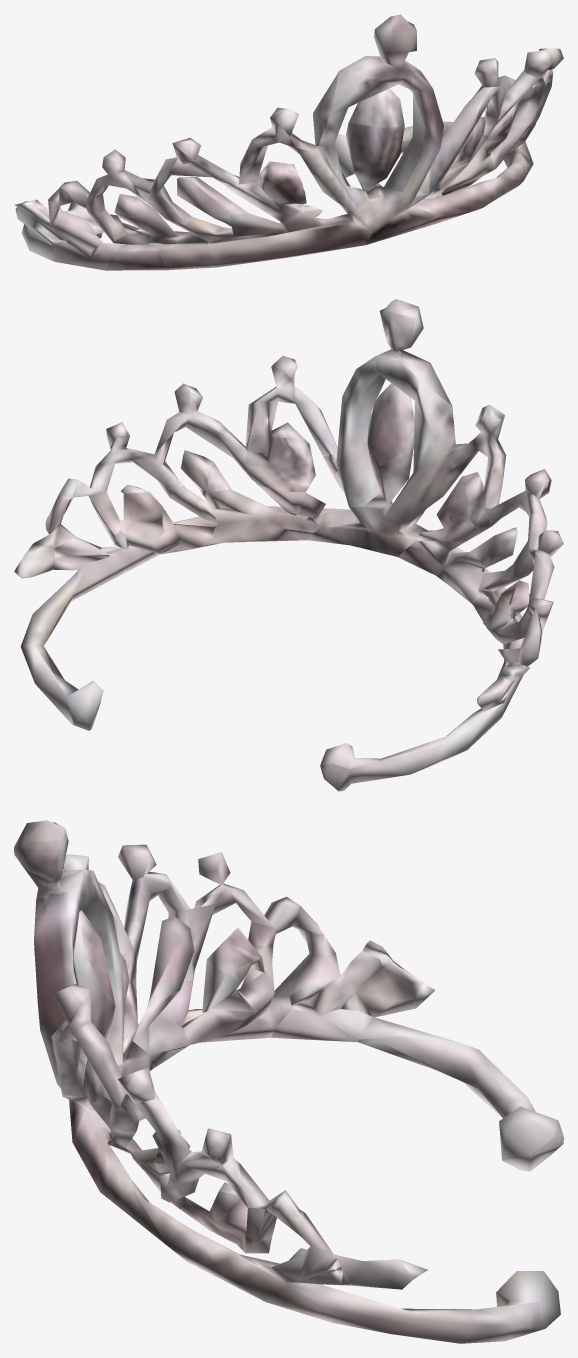
The picture shows the model from 3 angles, top to bottom: view 1: azimuth 30°, elevation 25°; view 2: azimuth 150°, elevation 25°; view 3: azimuth 270°, elevation 25°; orthographic projection. The views are drawn at different scales.
Visible parts, largest first — view 1: Silver-Tiara-06; view 2: Silver-Tiara-06; view 3: Silver-Tiara-06.
Boxes of the visible parts, box(x1,y1,x2,y2) form: Silver-Tiara-06: box(14, 14, 563, 270); Silver-Tiara-06: box(14, 299, 563, 791); Silver-Tiara-06: box(14, 820, 563, 1343).
Bounding box in the file's own units: 0.3103 × 0.1927 × 0.2231.
Materials: 1 (1 with a texture image).
